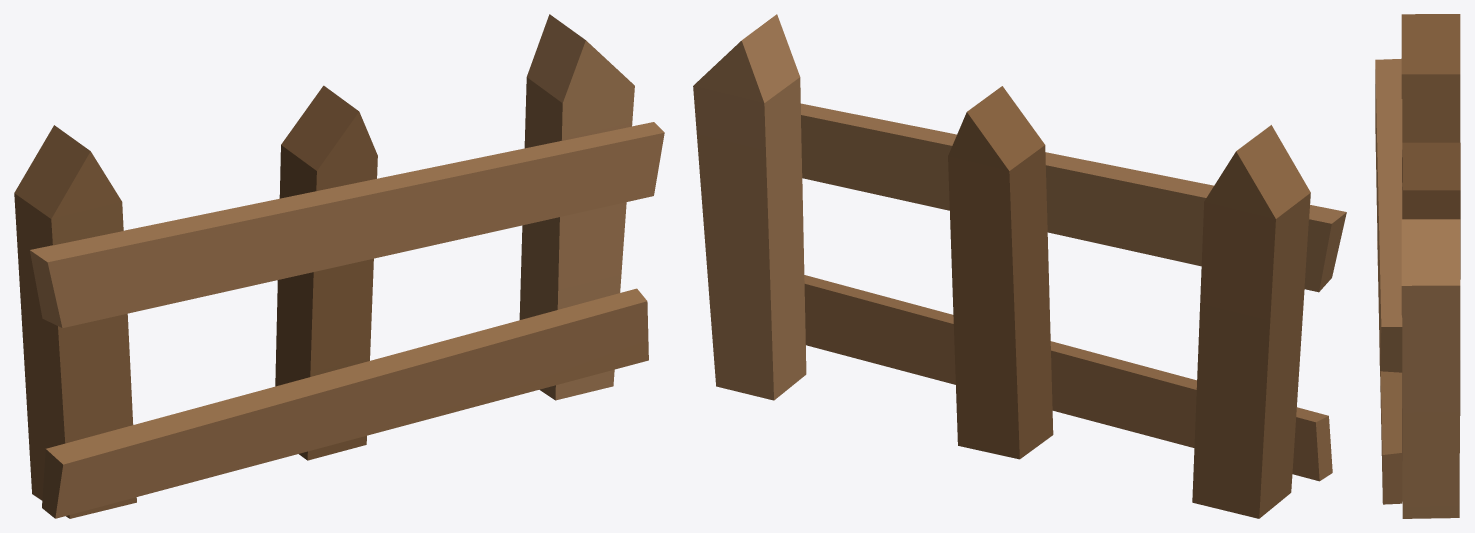
Rendered from Fence_WoodB_A.fbx.
3 views of the same model, side by side, from view 1: azimuth 30°, elevation 25°; view 2: azimuth 150°, elevation 25°; view 3: azimuth 270°, elevation 25° (orthographic). The views are drawn at different scales.
Visible parts, largest first — view 1: Fence_WoodB_A; view 2: Fence_WoodB_A; view 3: Fence_WoodB_A.
Boxes of the visible parts, box(x1,y1,x2,y2) form: Fence_WoodB_A: box(14, 14, 664, 518); Fence_WoodB_A: box(693, 14, 1346, 518); Fence_WoodB_A: box(1375, 14, 1460, 518).
Bounding box in the file's own units: 195 × 109 × 28.37.
